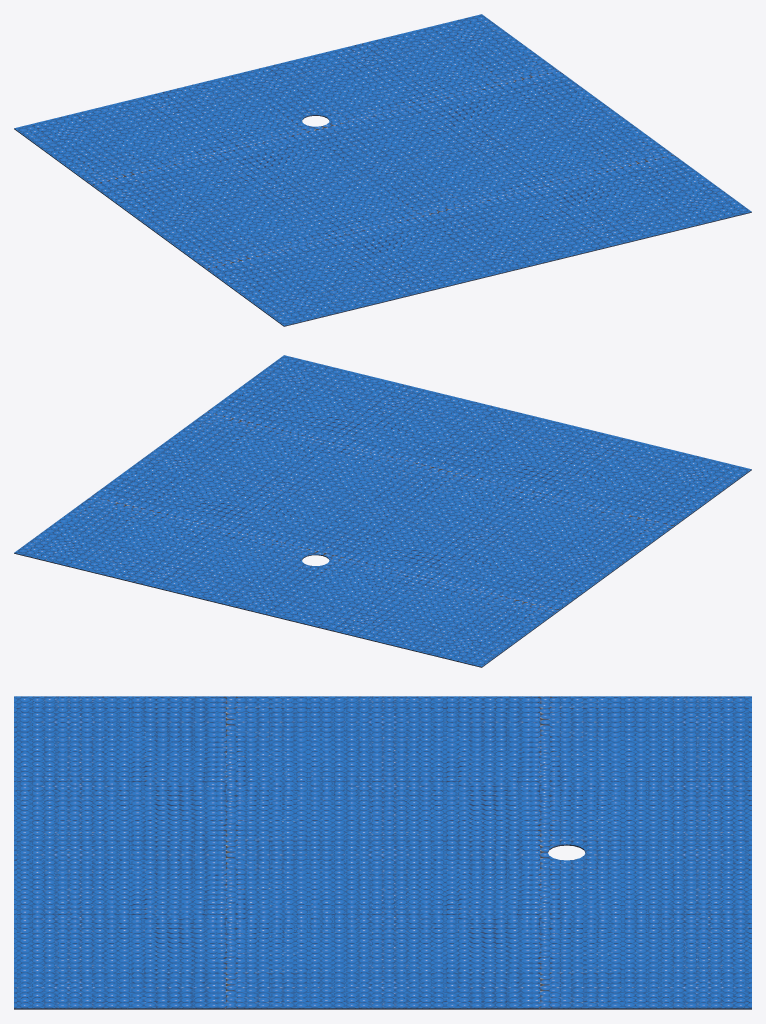
3 views of the same model, one above another, from view 1: azimuth 30°, elevation 25°; view 2: azimuth 150°, elevation 25°; view 3: azimuth 270°, elevation 25° (orthographic). The views are drawn at different scales.
Parts seen in each view (by area): view 1: Plane; view 2: Plane; view 3: Plane.
Part boxes in pixels (bbox=[...]): Plane: bbox=[14, 14, 751, 326]; Plane: bbox=[14, 355, 751, 667]; Plane: bbox=[14, 696, 751, 1009].
Bounding box in the file's own units: 667 × 1.15 × 667.
Materials: 1 (1 with a texture image).
